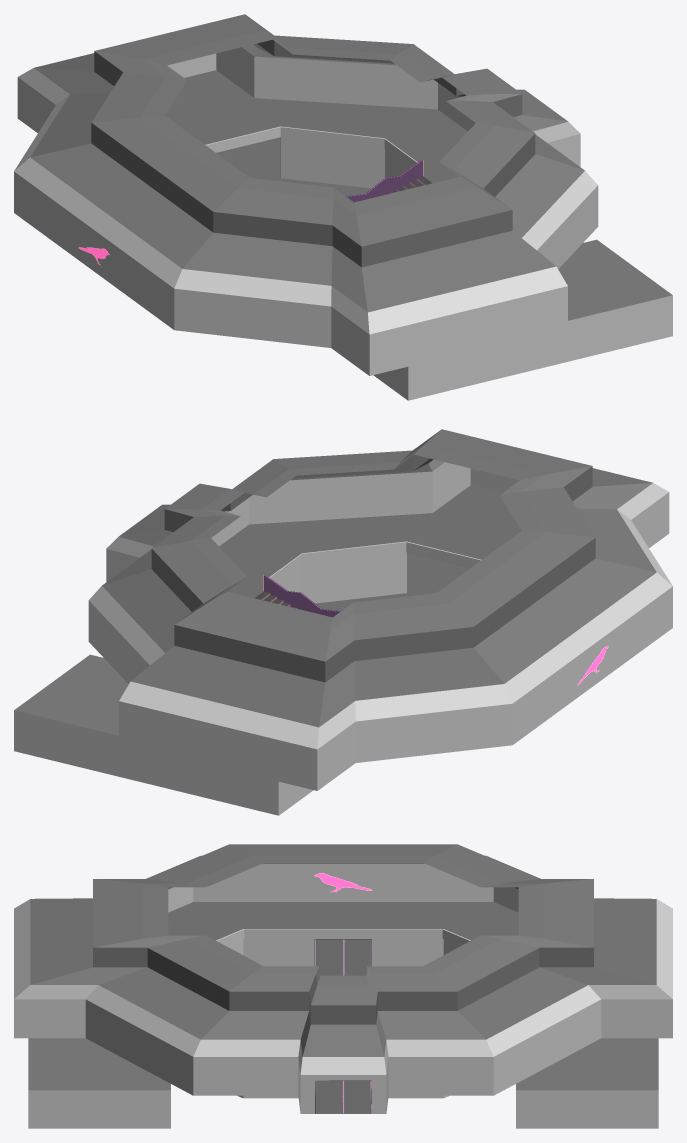
File: Building10.gltf
The picture shows the model from 3 angles, top to bottom: view 1: azimuth 30°, elevation 25°; view 2: azimuth 150°, elevation 25°; view 3: azimuth 270°, elevation 25°; orthographic projection. The views are drawn at different scales.
Parts seen in each view (by area): view 1: TopLeftWing, Roof, TopRightWing, TopFloorBack, BottomLeftWing, BottomFloor, TopFloorFront, BottomRightWing; view 2: TopRightWing, Roof, TopLeftWing, TopFloorBack, BottomRightWing, BottomFloor, TopFloorFront, BottomLeftWing; view 3: Roof, TopFloorFront, TopRightWing, TopLeftWing, TopFloorBack, BottomRightWing, BottomLeftWing, BottomFloor.
Part boxes in pixels (x1,y1,x2,y2): TopLeftWing: (174, 154, 598, 375); Roof: (91, 14, 535, 267); TopRightWing: (14, 43, 437, 170); TopFloorBack: (14, 143, 212, 329); BottomLeftWing: (373, 239, 672, 400); BottomFloor: (206, 127, 432, 202); TopFloorFront: (385, 83, 584, 182); BottomRightWing: (216, 137, 280, 180); TopRightWing: (88, 569, 512, 790); Roof: (151, 429, 595, 682); TopLeftWing: (249, 458, 672, 585); TopFloorBack: (474, 558, 672, 744); BottomRightWing: (14, 654, 313, 815); BottomFloor: (254, 542, 480, 617); TopFloorFront: (102, 498, 301, 597); BottomLeftWing: (406, 552, 470, 595); Roof: (93, 844, 593, 1024); TopFloorFront: (193, 1011, 493, 1113); TopRightWing: (443, 856, 672, 1095); TopLeftWing: (14, 856, 243, 1095); TopFloorBack: (193, 855, 493, 932); BottomRightWing: (516, 1038, 658, 1128); BottomLeftWing: (28, 1038, 170, 1128); BottomFloor: (217, 929, 469, 1098).
Size of the model in its own units: 35 by 10.2 by 46.
16 materials, 2 textured.
